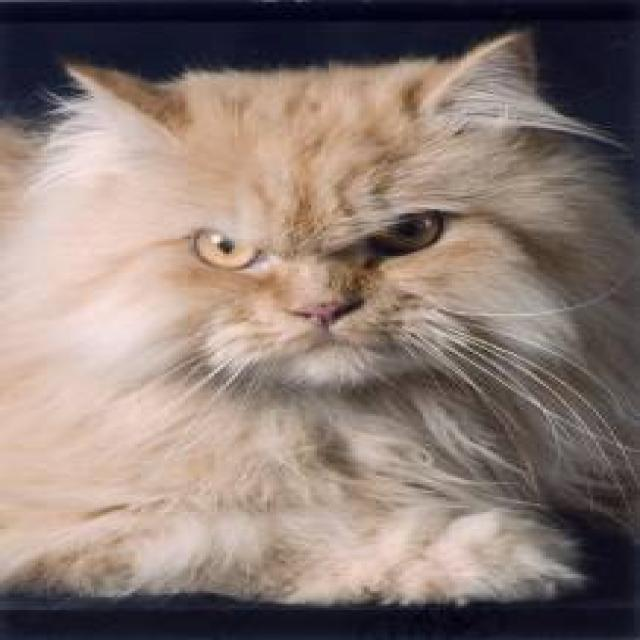Persian: (62, 30, 534, 384)
